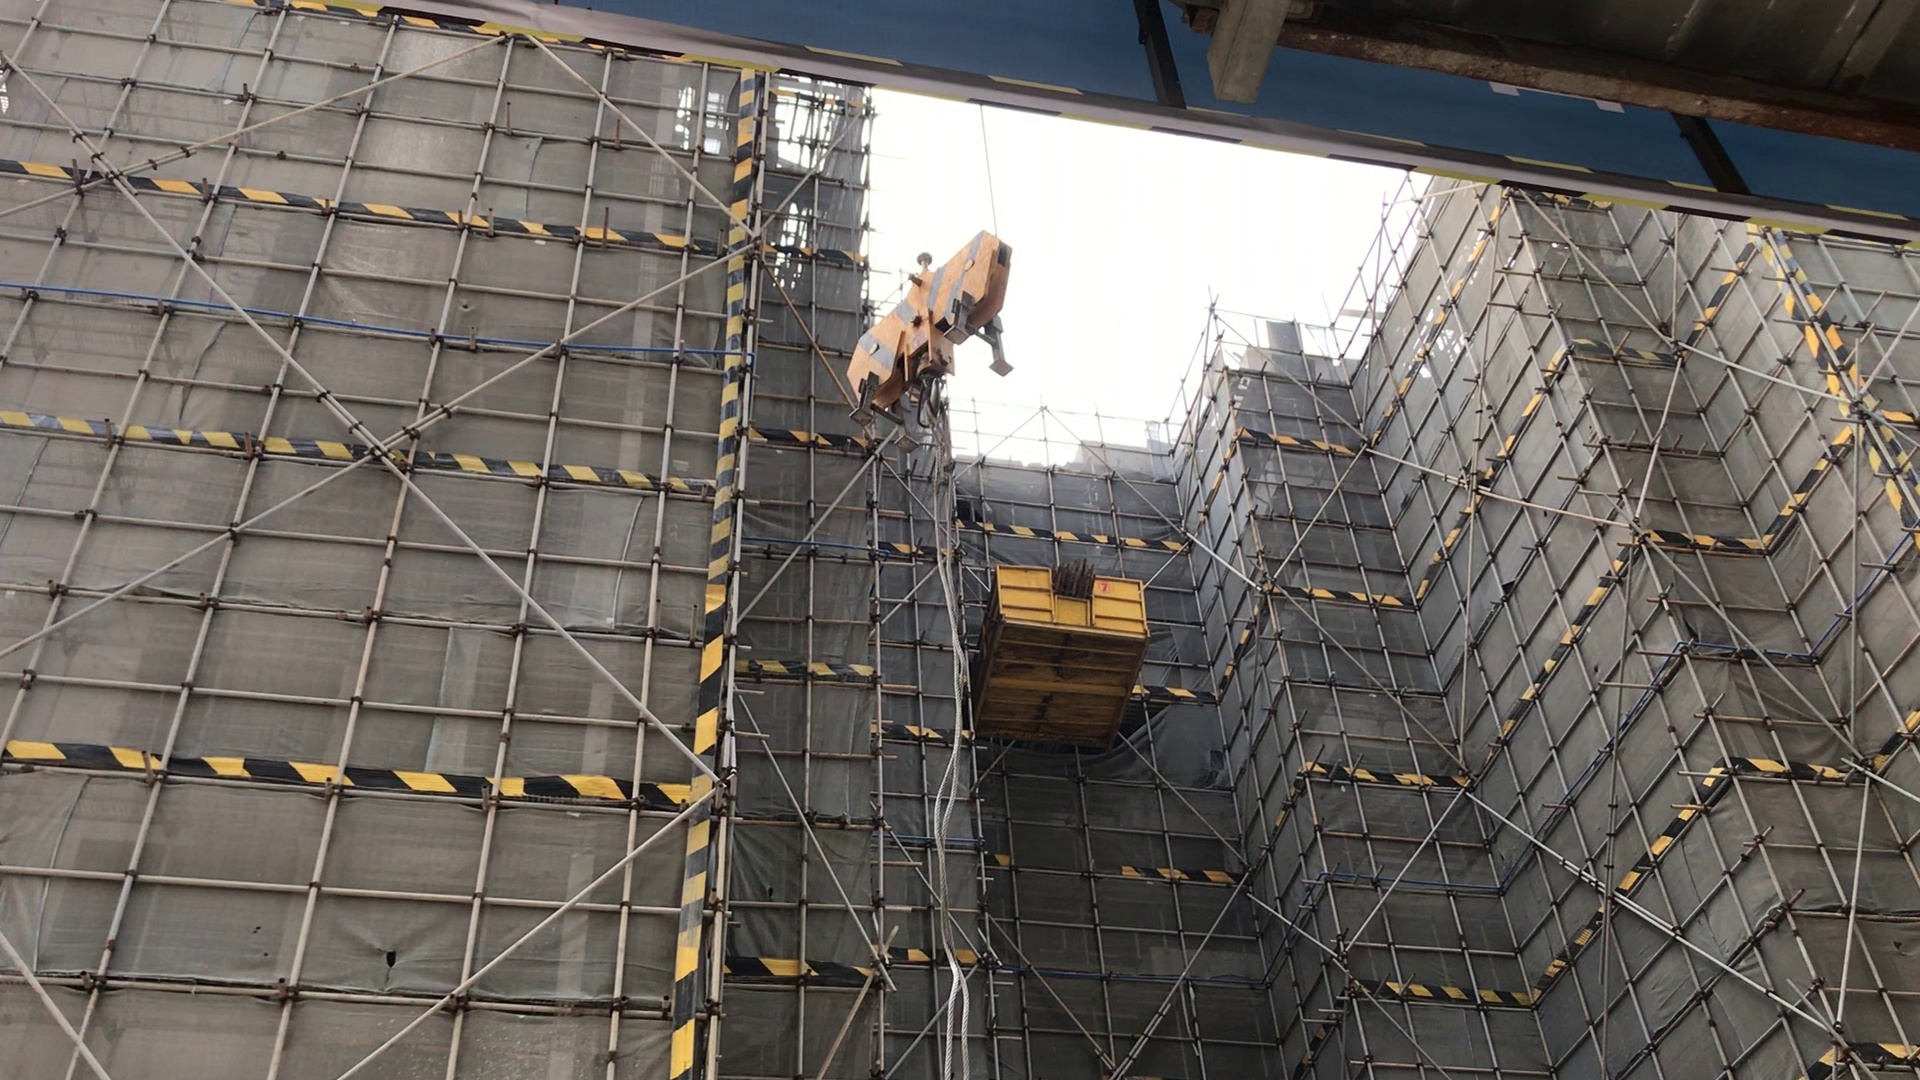hook: (832, 208, 1029, 417)
